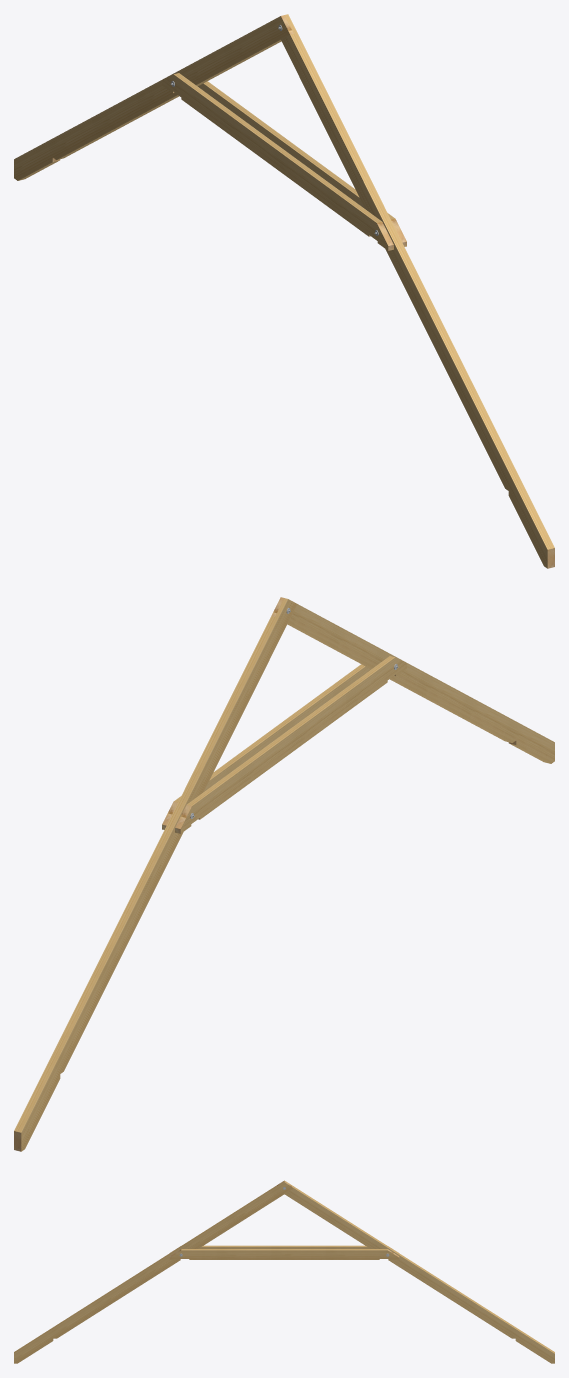
File: krokiewka.glb
The picture shows the model from 3 angles, top to bottom: view 1: azimuth 30°, elevation 25°; view 2: azimuth 150°, elevation 25°; view 3: azimuth 270°, elevation 25°; orthographic projection. The views are drawn at different scales.
Parts seen in each view (by area): view 1: krokwie, krokwie.001, kleszcz, kleszcz.001; view 2: krokwie.001, krokwie, kleszcz, kleszcz.001; view 3: krokwie, krokwie.001, kleszcz.001, kleszcz.
Boxes of the visible parts, x1,y1,x2,y2 form: krokwie: (281,14,554,568); krokwie.001: (14,15,293,180); kleszcz: (162,73,393,250); kleszcz.001: (198,81,406,246); krokwie.001: (14,598,297,1151); krokwie: (271,597,554,763); kleszcz: (175,656,406,833); kleszcz.001: (162,664,370,829); krokwie: (14,1181,293,1363); krokwie.001: (275,1180,554,1363); kleszcz.001: (169,1249,399,1259); kleszcz: (170,1245,398,1252).
Bounding box in the file's own units: 0.252 × 3.68 × 9.94.
Materials: 26 (26 with a texture image).
